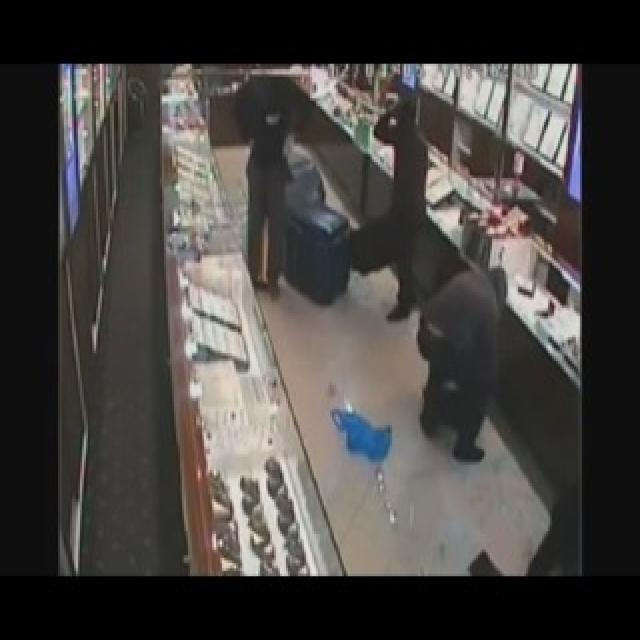thief: (411, 259, 516, 456), (377, 98, 433, 333), (243, 88, 301, 302)
